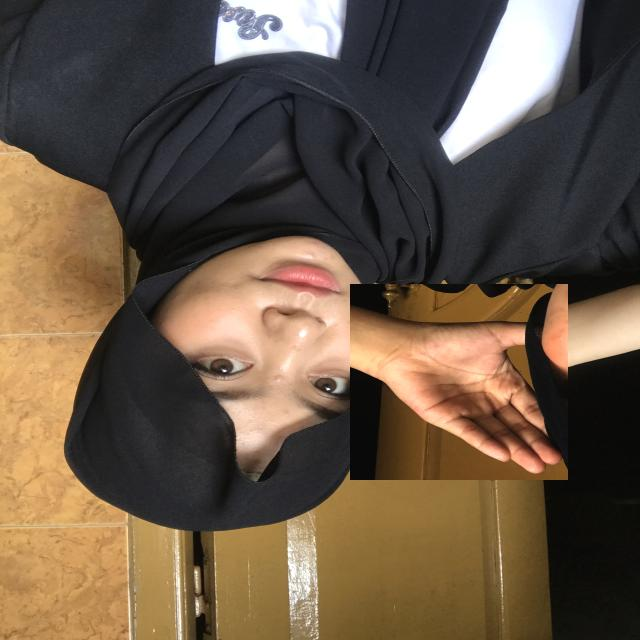mendengar: (351, 284, 568, 480)
